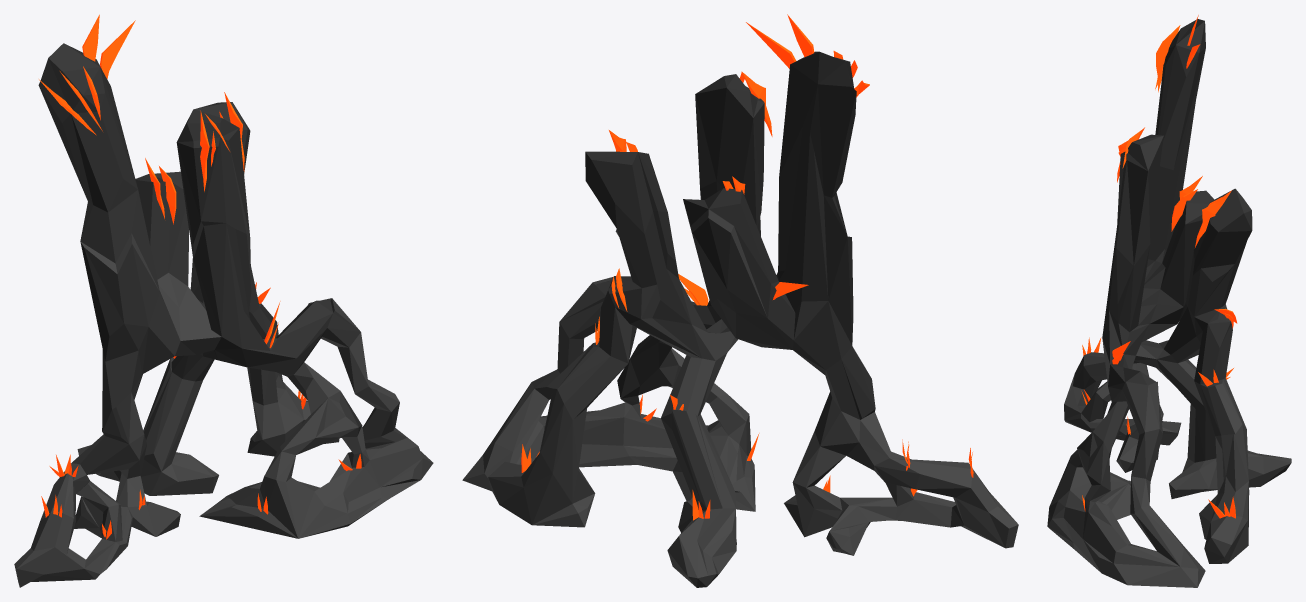
File: SM_Relief_Element_09.glb
3 views of the same model, side by side, from view 1: azimuth 30°, elevation 25°; view 2: azimuth 150°, elevation 25°; view 3: azimuth 270°, elevation 25° (orthographic). The views are drawn at different scales.
Parts seen in each view (by area): view 1: SM_Relief_Element_09; view 2: SM_Relief_Element_09; view 3: SM_Relief_Element_09.
Part boxes in pixels (left/top/right/bottom): SM_Relief_Element_09: left=14, top=14, right=433, bottom=587; SM_Relief_Element_09: left=462, top=14, right=1018, bottom=587; SM_Relief_Element_09: left=1047, top=15, right=1291, bottom=587.
Size of the model in its own units: 2.38 by 2.55 by 1.27.
Materials: 2 (1 with a texture image).
